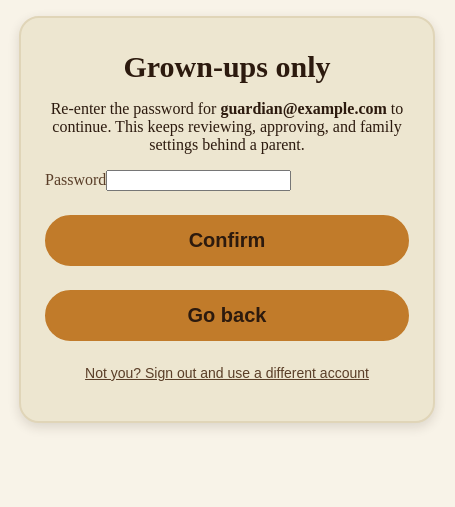
Test case: AdultGate › reports a server-side failure distinctly from a connection problem
Expected: the heading "Grown-ups only" is shown, [124,50,330,83]
In the password field labelled "Password": (199, 180) [106,170,291,191], type "whatever"
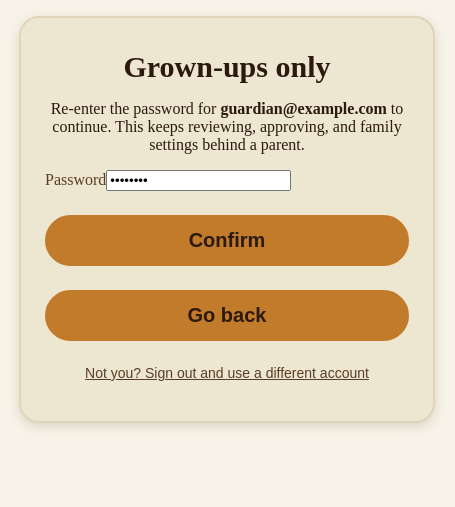
Click the button "Confirm": (227, 240) [45,215,409,266]
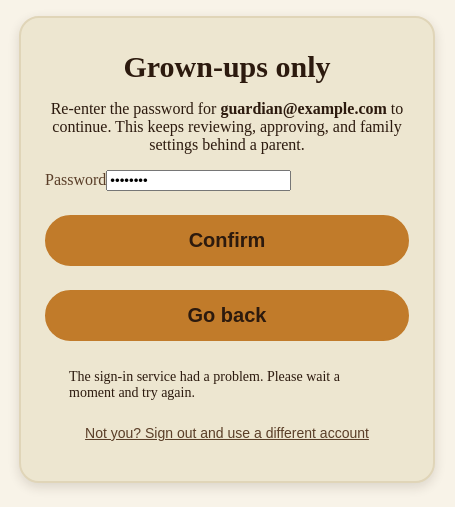
Expected: the message "The sign-in service had a problem. Please wait a moment and try again." does not show "check your connection", [69,369,385,401]
Result: the message "The sign-in service had a problem. Please wait a moment and try again." is shown at [69,369,385,401]
